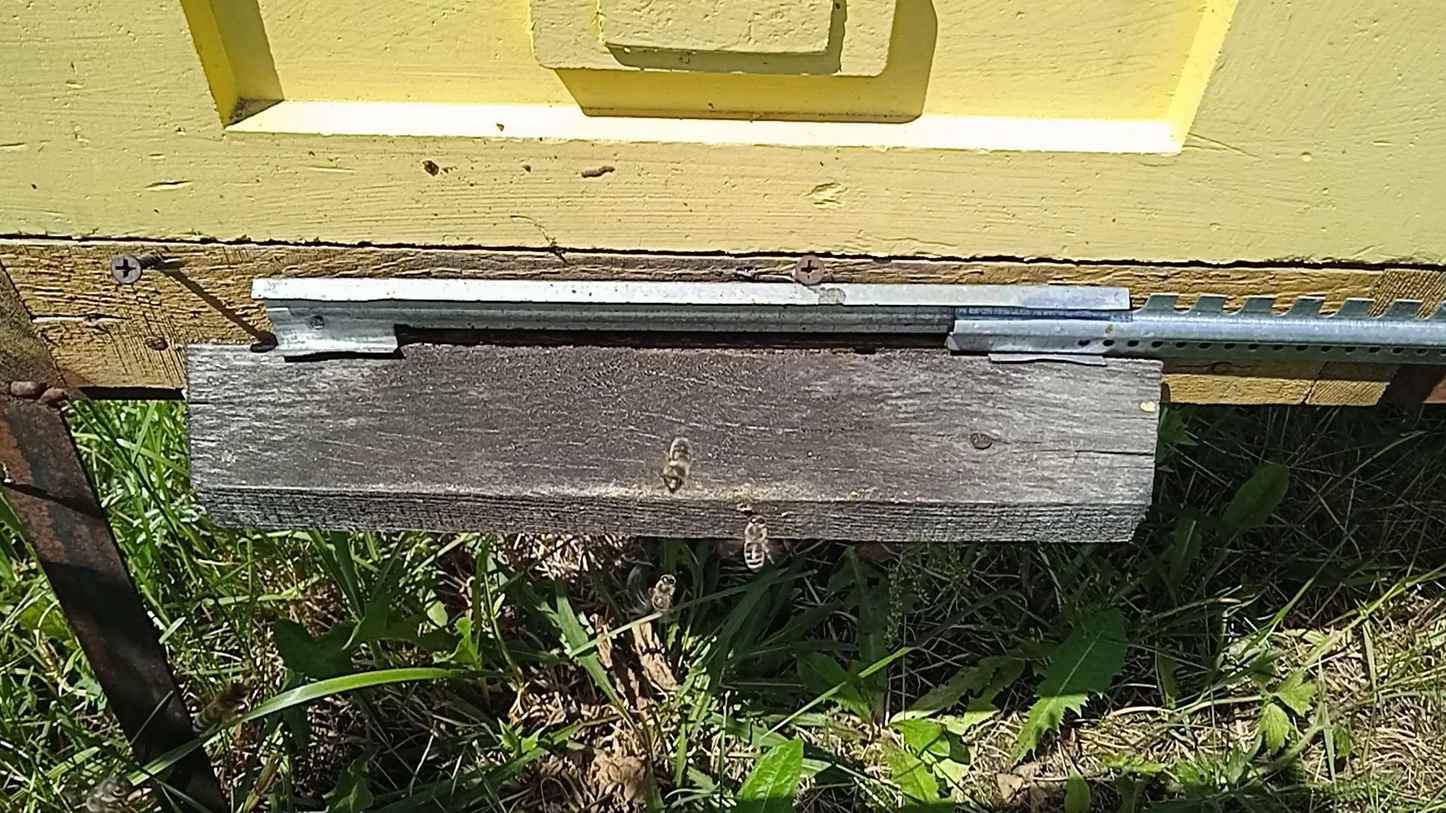worker-bee: (191, 681, 250, 735), (660, 435, 694, 494), (742, 513, 771, 574), (89, 778, 135, 813), (650, 571, 679, 612)
